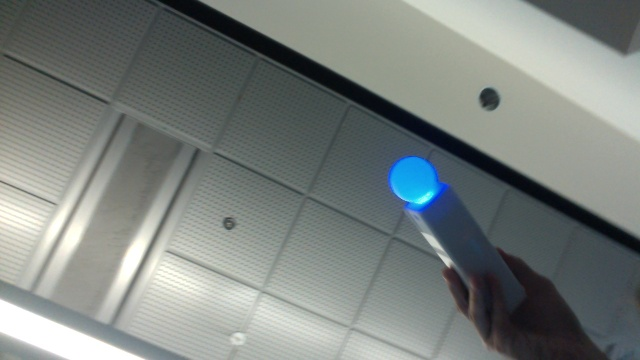wand: (390, 156, 437, 203)
